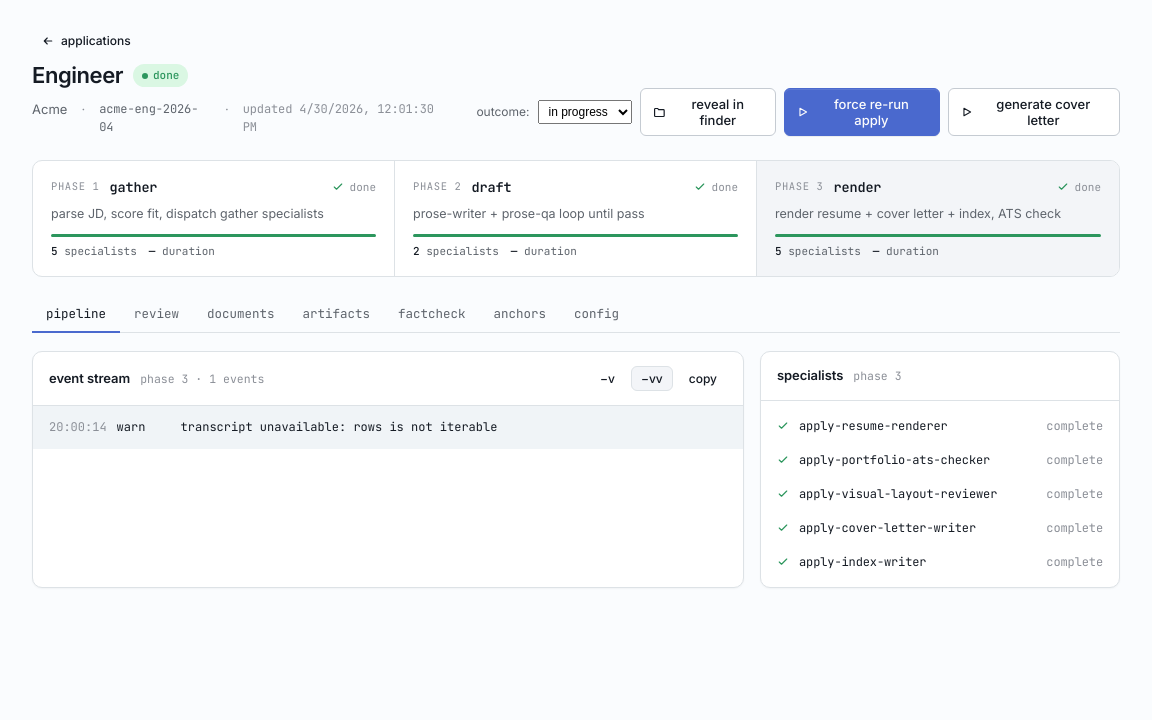
Test case: ApplicationDetail positive: API artifacts surface in DOM (feat-83d6cf54) › renders anchor-check from the real GuardResult schema (kept + dropped_without_reason + dropped_with_reason)
Click the text "anchors": (520, 313) top-left (494, 304), bottom-right (546, 322)
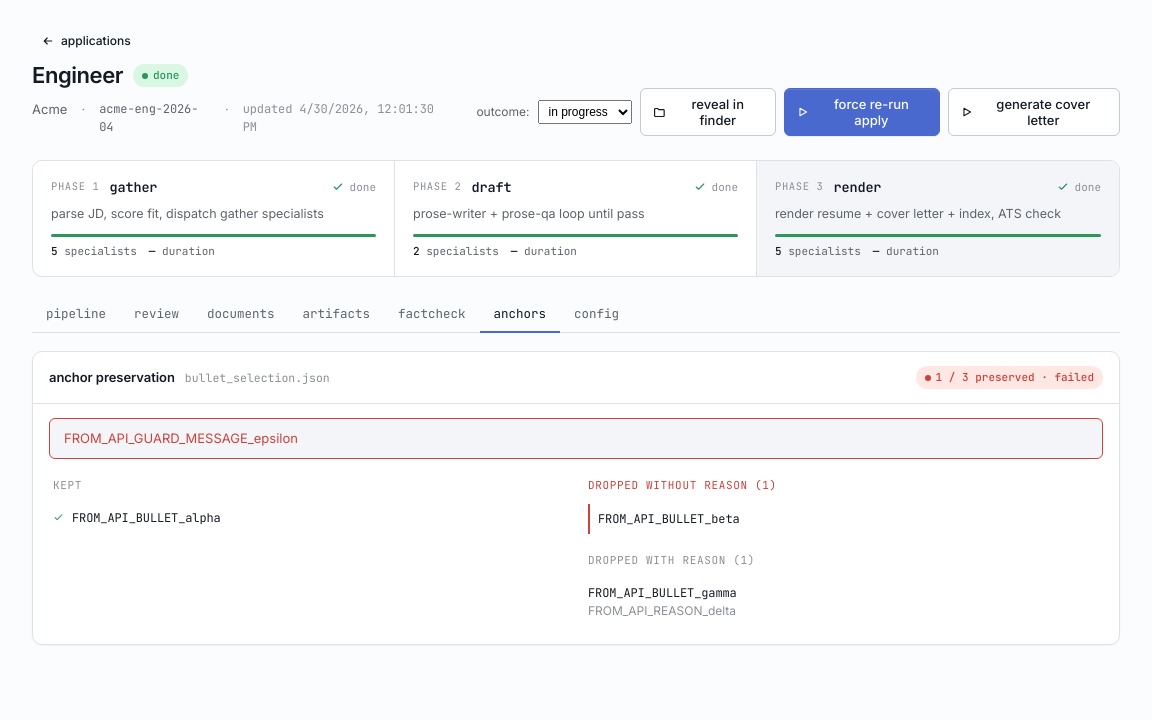
Expected: the text "FROM_API_BULLET_alpha" is shown, top-left (72, 509), bottom-right (221, 527)
Expected: the text "FROM_API_BULLET_beta" is shown, top-left (598, 511), bottom-right (740, 527)
Expected: the text "FROM_API_BULLET_gamma" is shown, top-left (588, 585), bottom-right (737, 601)
